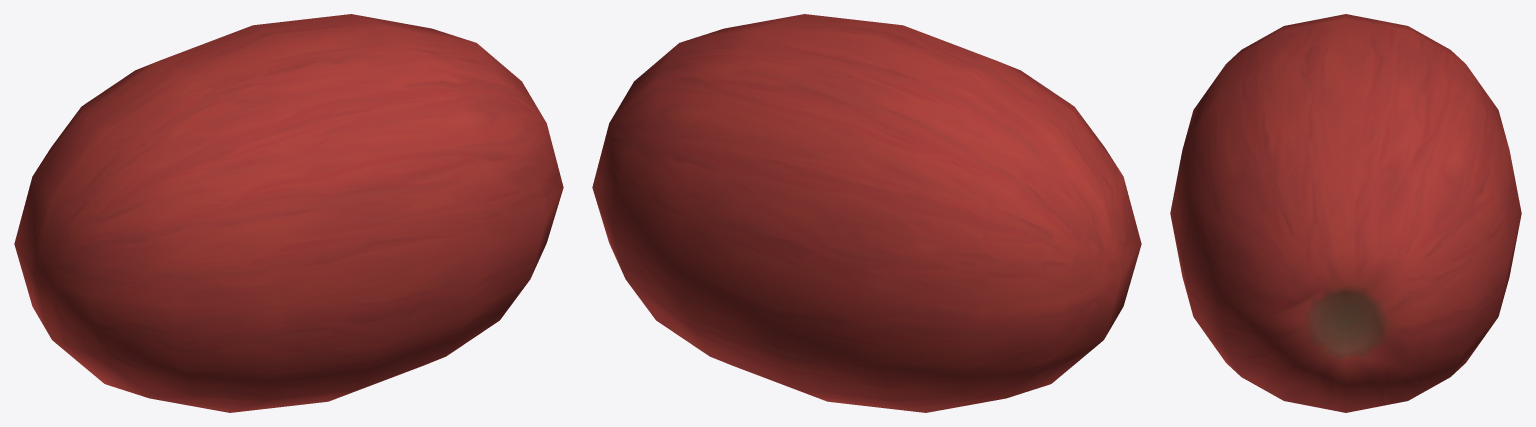
The model's file is model_frutocafe_02.fbx.
The picture shows the model from 3 angles, left to right: view 1: azimuth 30°, elevation 25°; view 2: azimuth 150°, elevation 25°; view 3: azimuth 270°, elevation 25°; orthographic projection. The views are drawn at different scales.
Visible parts, largest first — view 1: Fruto de Cafe1.001; view 2: Fruto de Cafe1.001; view 3: Fruto de Cafe1.001.
Boxes of the visible parts, bbox=[...] form: Fruto de Cafe1.001: bbox=[14, 14, 563, 412]; Fruto de Cafe1.001: bbox=[592, 14, 1141, 412]; Fruto de Cafe1.001: bbox=[1170, 14, 1521, 412].
Size of the model in its own units: 0.6348 by 0.418 by 0.418.
1 material, 1 textured.
